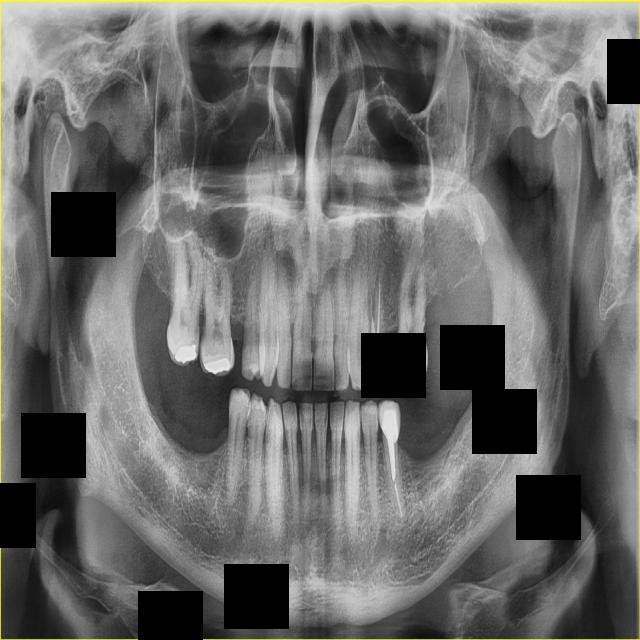71: (380, 409, 405, 483)
74: (371, 276, 380, 356), (392, 481, 403, 519)
NucleOSS Implant: (386, 351, 427, 385), (203, 355, 232, 377), (172, 343, 198, 365)
Sterngold Implant: (364, 350, 385, 381)
Zimmer Implant: (376, 399, 404, 443)
